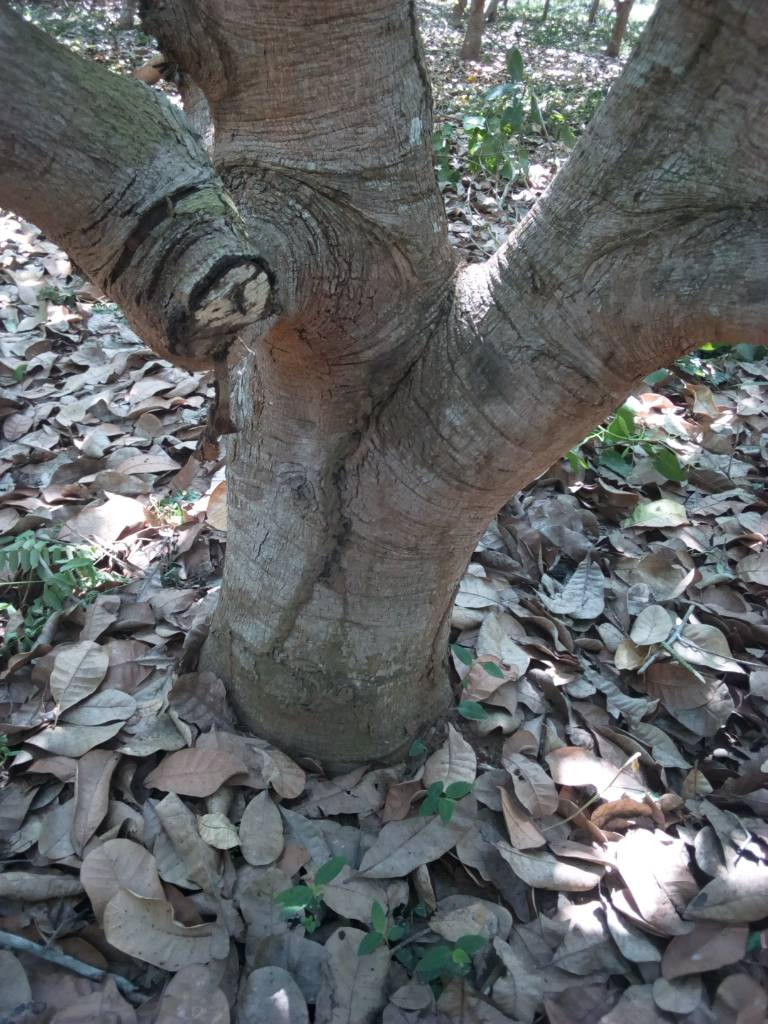Termites: (254, 435, 374, 680)
